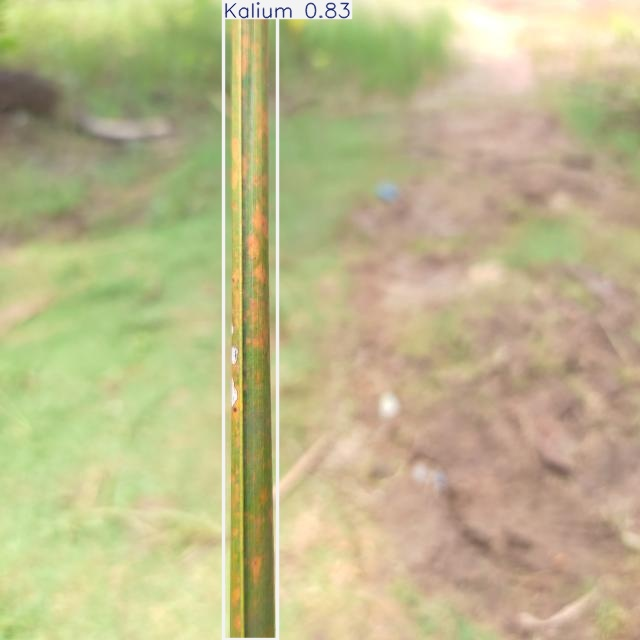Kalium: (223, 1, 277, 639)
